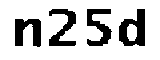2: (47, 5, 78, 50)
5: (84, 7, 114, 50)
d: (117, 4, 148, 53)
n: (12, 14, 43, 50)
